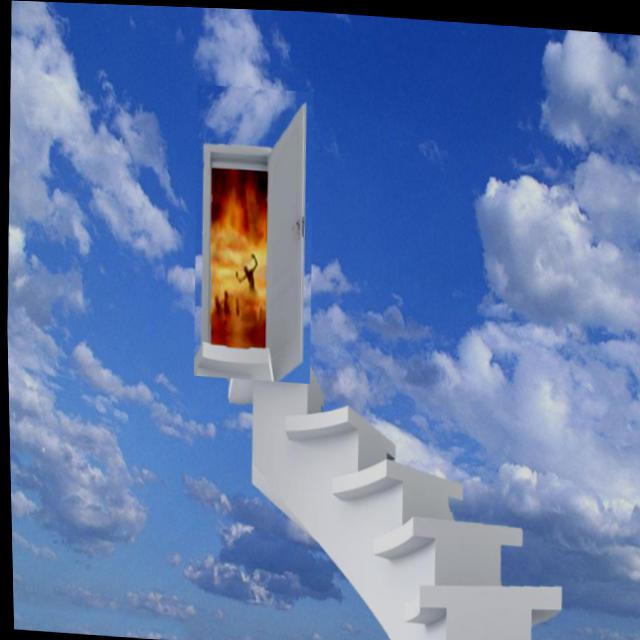open: (187, 82, 319, 383)
